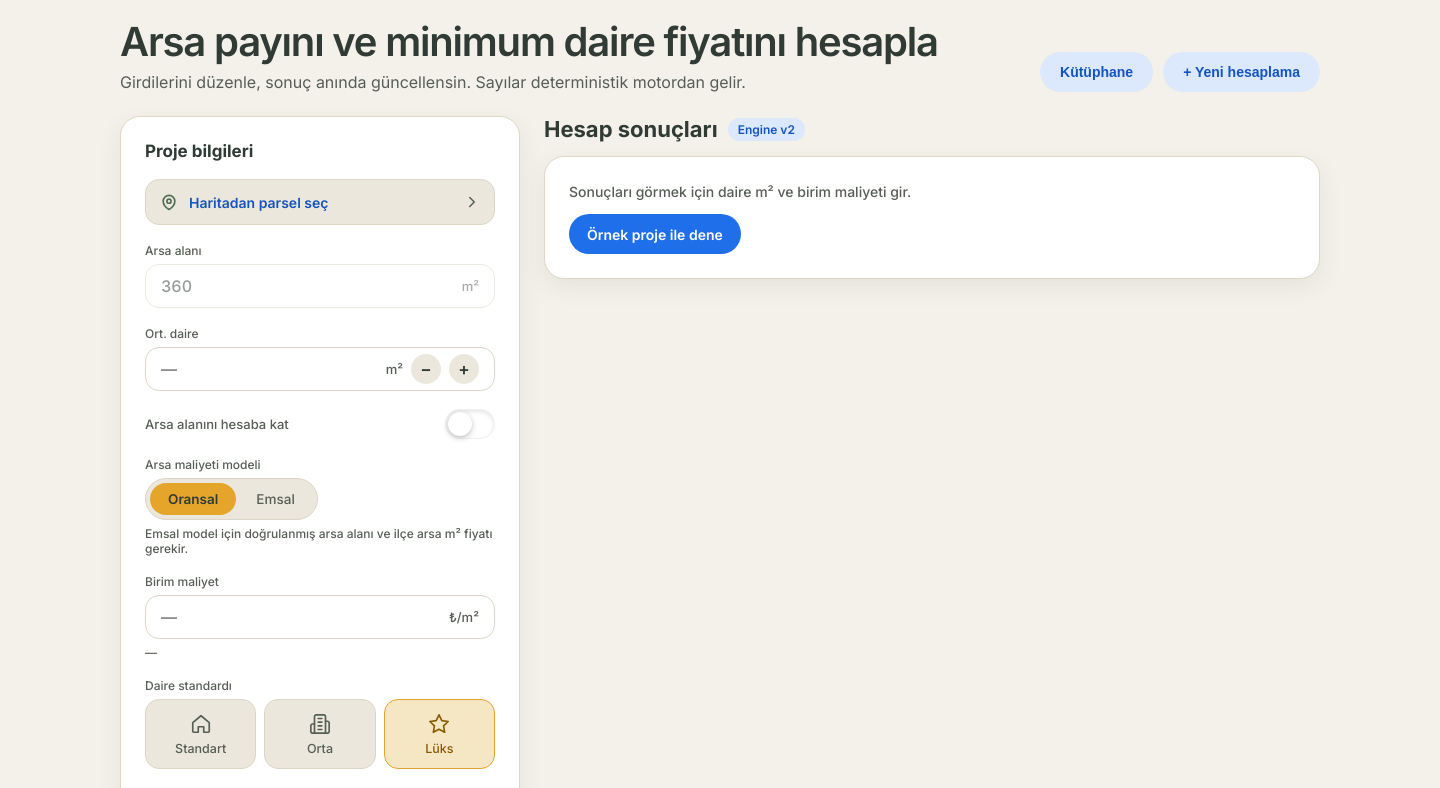
Test: /hesapla — masaüstü Arsa Payı TEK blokta (denetim sonrası UX düzeltmesi) › yüzde %90 ve üzerine çıkınca motorun matematiksel olarak şiştiğini açıklayan bir uyarı belirir (denetim-2 bulgusu, kelepçe yerine şeffaflık)
Click the button "Örnek proje ile dene" at x=655, y=234, box [569,214,741,254]
(page scrolled)
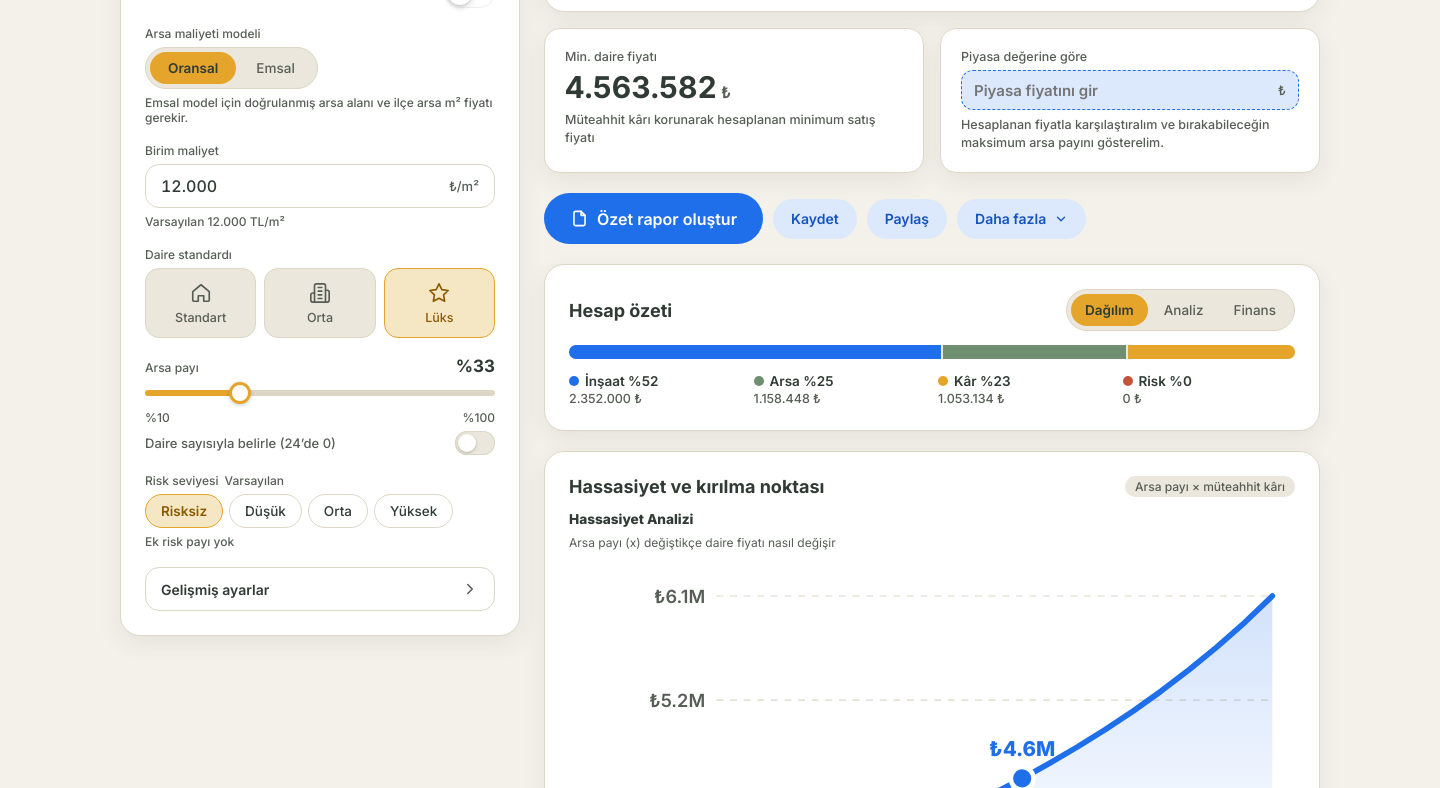
Set the slider named "Arsa payı yüzdesi" to "50" at x=301, y=393, box [145,382,495,404]
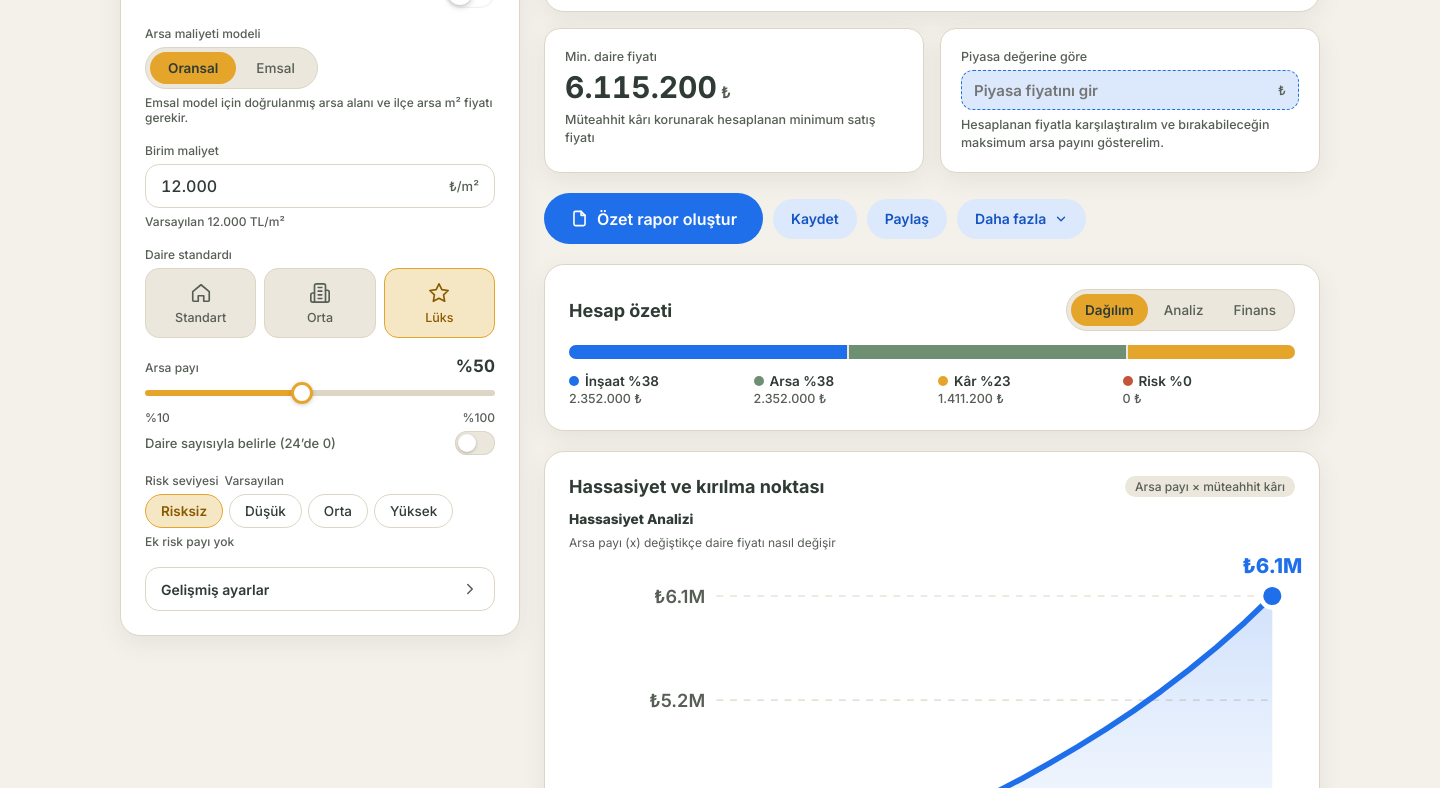
Expected: the text "matematiksel olarak çok yükselir" is not shown
Set the slider named "Arsa payı yüzdesi" to "95" at x=468, y=393, box [145,382,495,404]
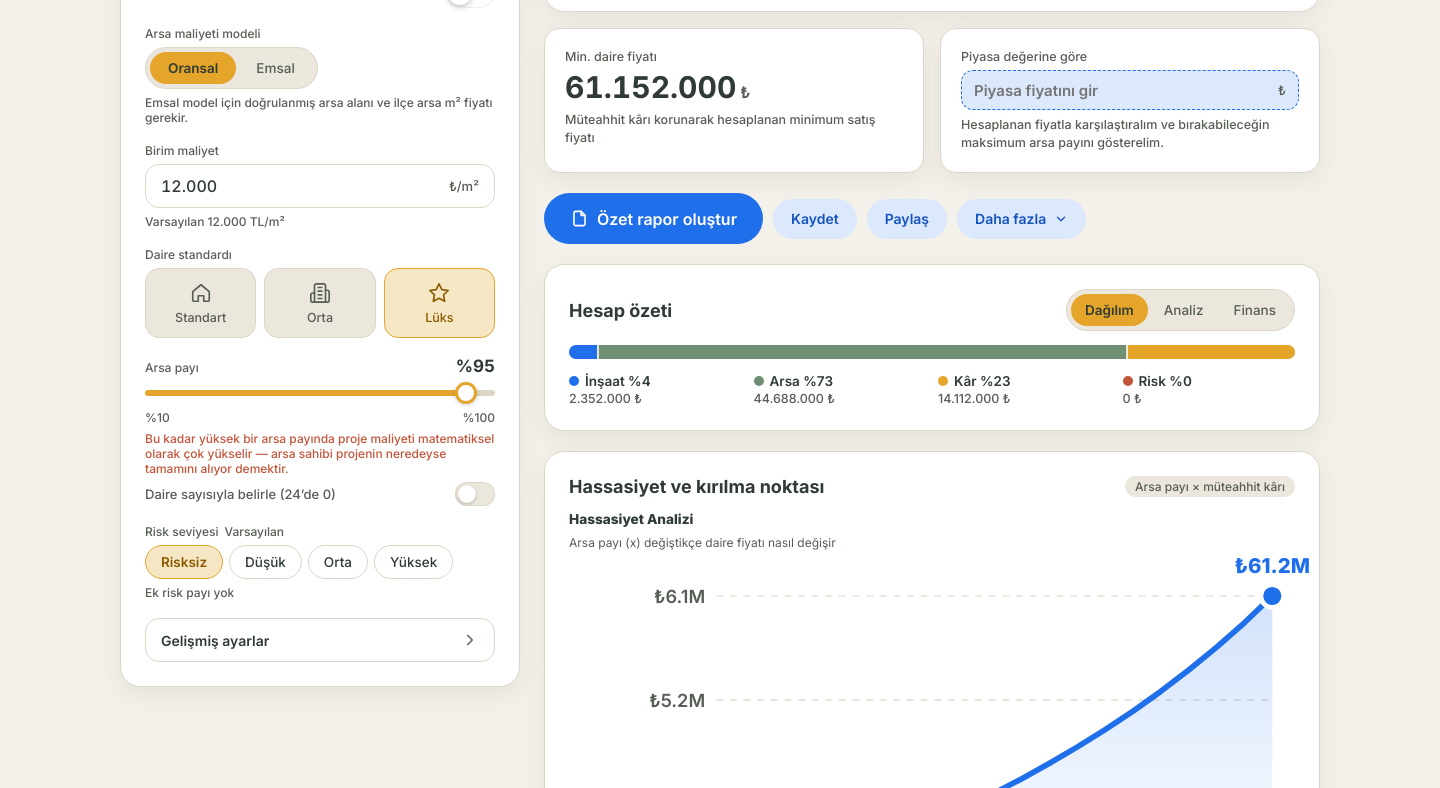
Result: the text "matematiksel olarak çok yükselir" is shown at [145,431,494,476]
